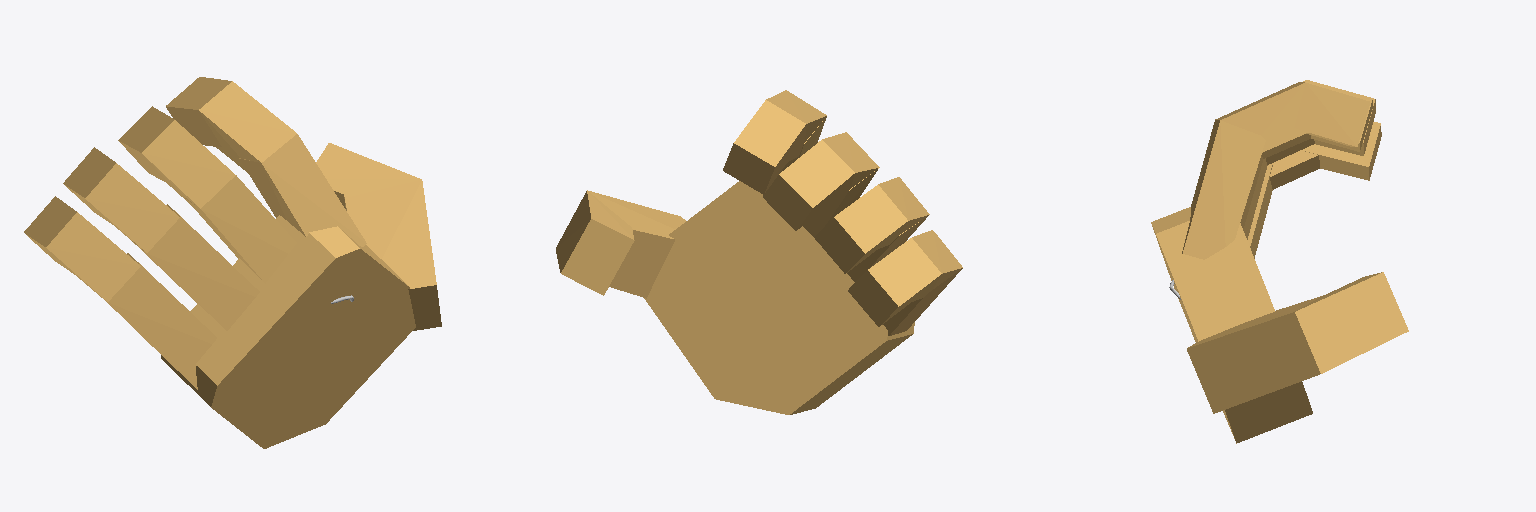
3 renders of one model, left to right at view 1: azimuth 30°, elevation 25°; view 2: azimuth 150°, elevation 25°; view 3: azimuth 270°, elevation 25°, orthographic.
Visible parts, largest first — view 1: 立方体.001; view 2: 立方体.001; view 3: 立方体.001.
Part boxes in pixels (x1,y1,x2,y2): 立方体.001: (24,77,441,448); 立方体.001: (556,90,962,414); 立方体.001: (1151,80,1408,443).
Bounding box in the file's own units: 2.95 × 2.47 × 1.72.
Materials: 2 (1 with a texture image).